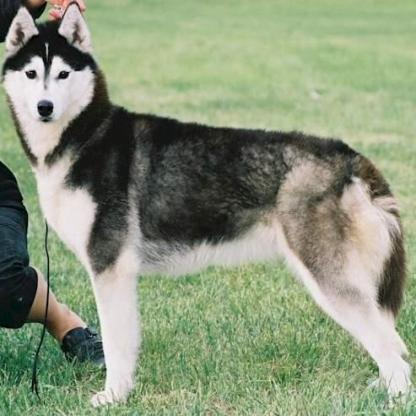Siberian_husky: (5, 2, 411, 404)
